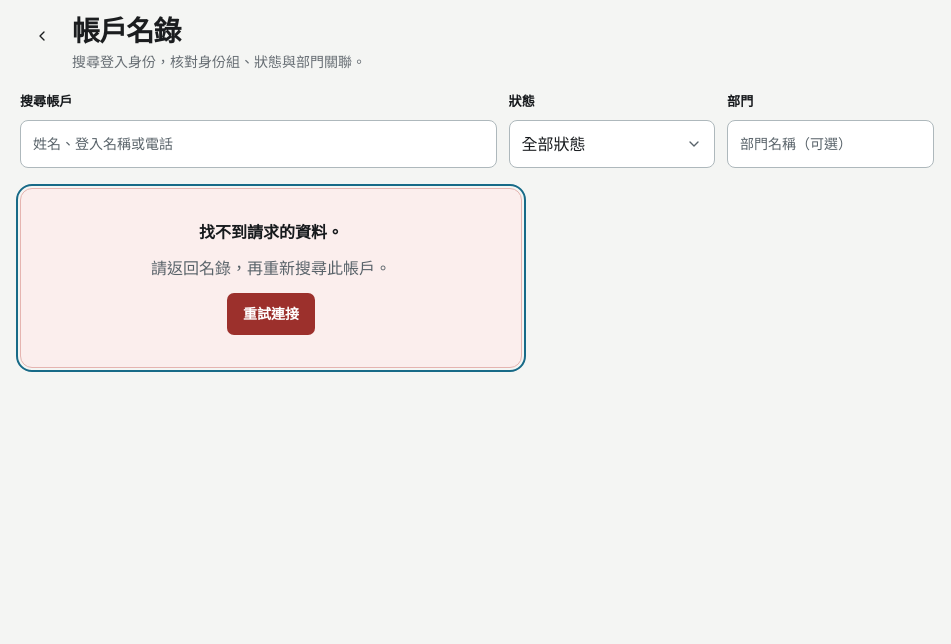
AccountDirectoryPanel › recovers an Account detail error through the selected detail slot
Expected: the text "找不到請求的資料。" is shown, [199,220,343,244]
Click the button "重試連接".
click(271, 314)  # box [226,292,316,336]
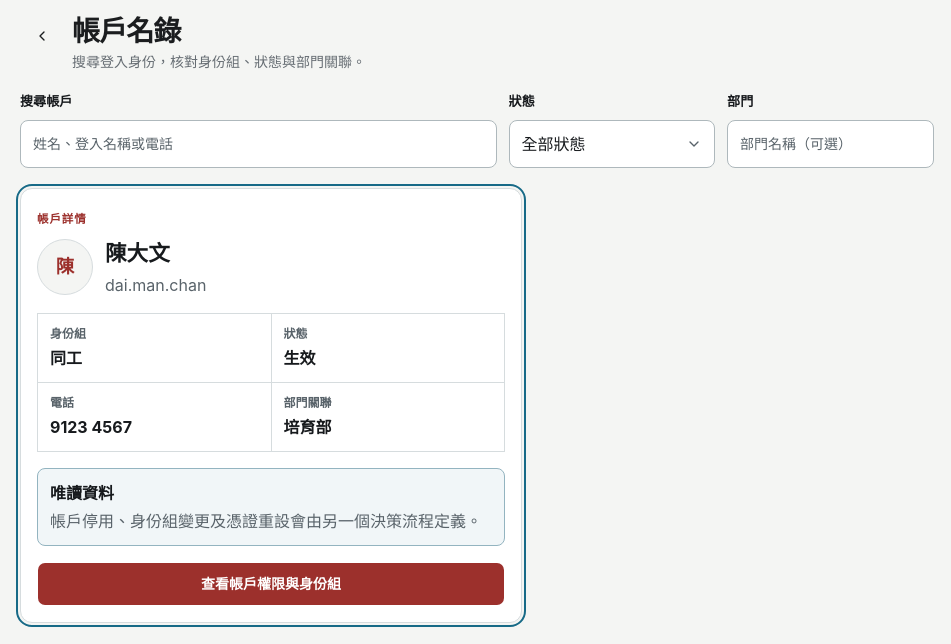
Result: the heading "陳大文" is shown at [105,240,170,266]
